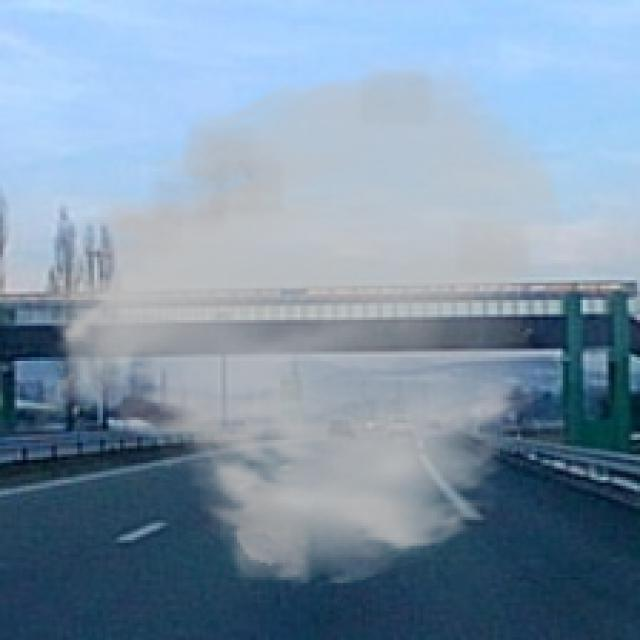Smoke: (22, 54, 568, 592)
